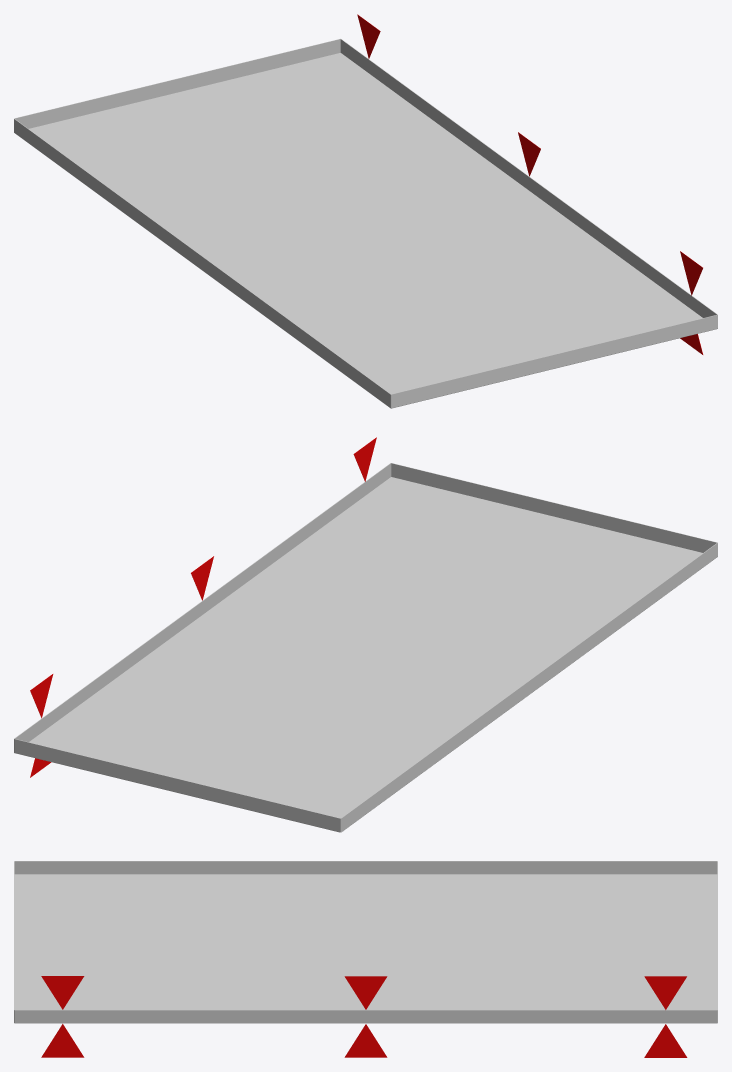
3 renders of one model, top to bottom at view 1: azimuth 30°, elevation 25°; view 2: azimuth 150°, elevation 25°; view 3: azimuth 270°, elevation 25°, orthographic. The views are drawn at different scales.
Parts seen in each view (by area): view 1: 3DGeom-7; view 2: 3DGeom-7; view 3: 3DGeom-7, 3DGeom-1, 3DGeom-5, 3DGeom-6, 3DGeom-4, 3DGeom-3, 3DGeom-2.
Part boxes in pixels (left/top/right/bottom): 3DGeom-7: left=14, top=38, right=717, bottom=408; 3DGeom-7: left=14, top=463, right=717, bottom=832; 3DGeom-7: left=14, top=861, right=717, bottom=1023; 3DGeom-1: left=41, top=1024, right=84, bottom=1057; 3DGeom-5: left=344, top=1024, right=387, bottom=1057; 3DGeom-6: left=344, top=976, right=387, bottom=1009; 3DGeom-4: left=644, top=976, right=686, bottom=1009; 3DGeom-3: left=644, top=1024, right=687, bottom=1057; 3DGeom-2: left=41, top=976, right=84, bottom=1009.
Size of the model in its own units: 0.6377 by 0.1625 by 1.27.
